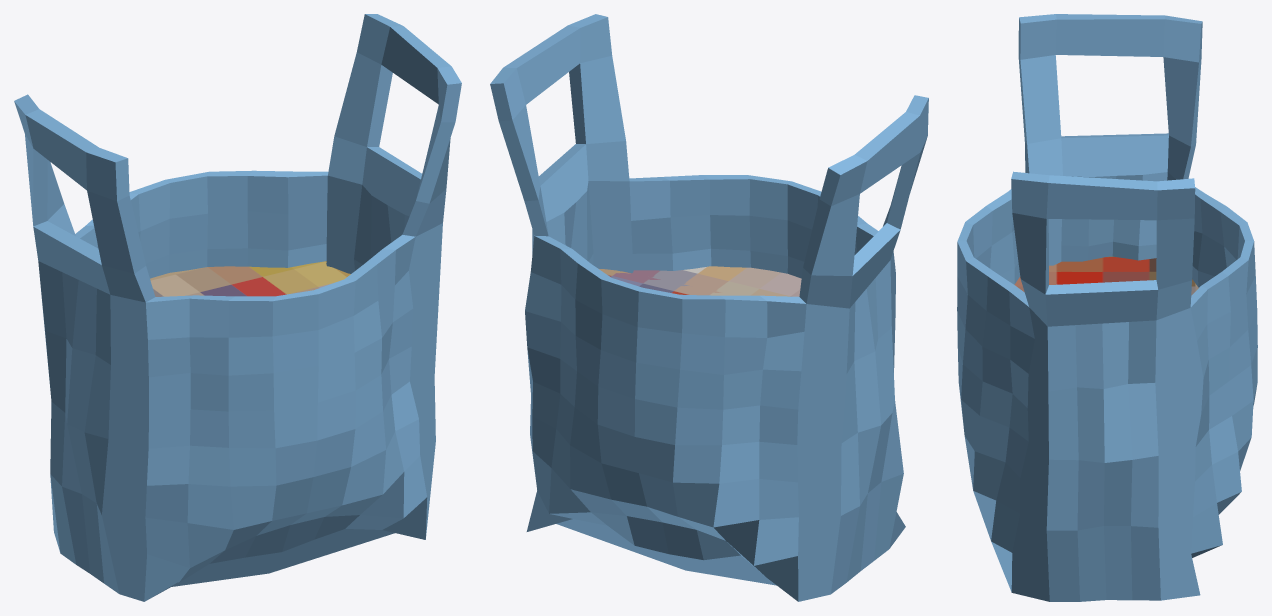
Rendered from ShoppingBag.fbx.
3 renders of one model, left to right at view 1: azimuth 30°, elevation 25°; view 2: azimuth 150°, elevation 25°; view 3: azimuth 270°, elevation 25°, orthographic. The views are drawn at different scales.
Visible parts, largest first — view 1: Cube, Plane; view 2: Cube, Plane; view 3: Cube, Plane.
Part boxes in pixels (x1,y1,x2,y2): Cube: [14, 14, 461, 601]; Plane: [150, 261, 350, 296]; Cube: [490, 14, 928, 601]; Plane: [598, 266, 801, 296]; Cube: [957, 14, 1257, 601]; Plane: [1014, 256, 1198, 295].
Bounding box in the file's own units: 269 × 195 × 323.
Materials: 2 (1 with a texture image).
